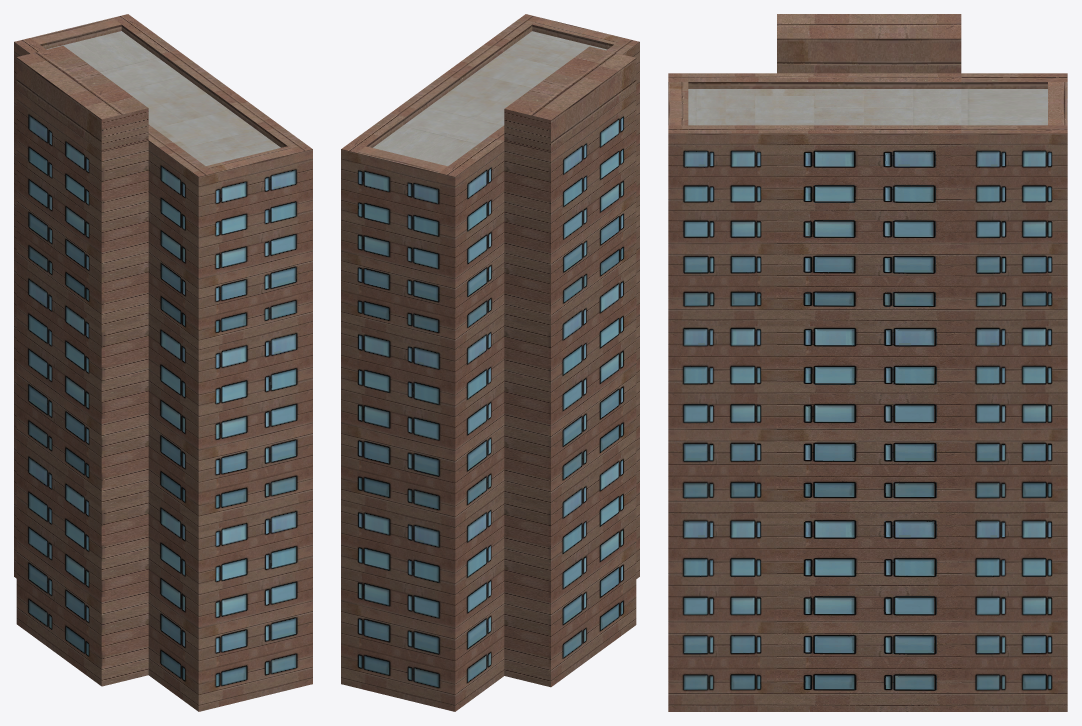
File: Pizza_Delivery house4.fbx
3 renders of one model, left to right at view 1: azimuth 30°, elevation 25°; view 2: azimuth 150°, elevation 25°; view 3: azimuth 270°, elevation 25°, orthographic. The views are drawn at different scales.
Visible parts, largest first — view 1: Pizza_Delivery:Pizza_Delivery:house4; view 2: Pizza_Delivery:Pizza_Delivery:house4; view 3: Pizza_Delivery:Pizza_Delivery:house4.
Part boxes in pixels (x1=…): Pizza_Delivery:Pizza_Delivery:house4: x1=14, y1=14, x2=312, y2=711; Pizza_Delivery:Pizza_Delivery:house4: x1=341, y1=14, x2=639, y2=711; Pizza_Delivery:Pizza_Delivery:house4: x1=668, y1=14, x2=1067, y2=711.
Size of the model in its own units: 7.52 by 25.34 by 14.96.
